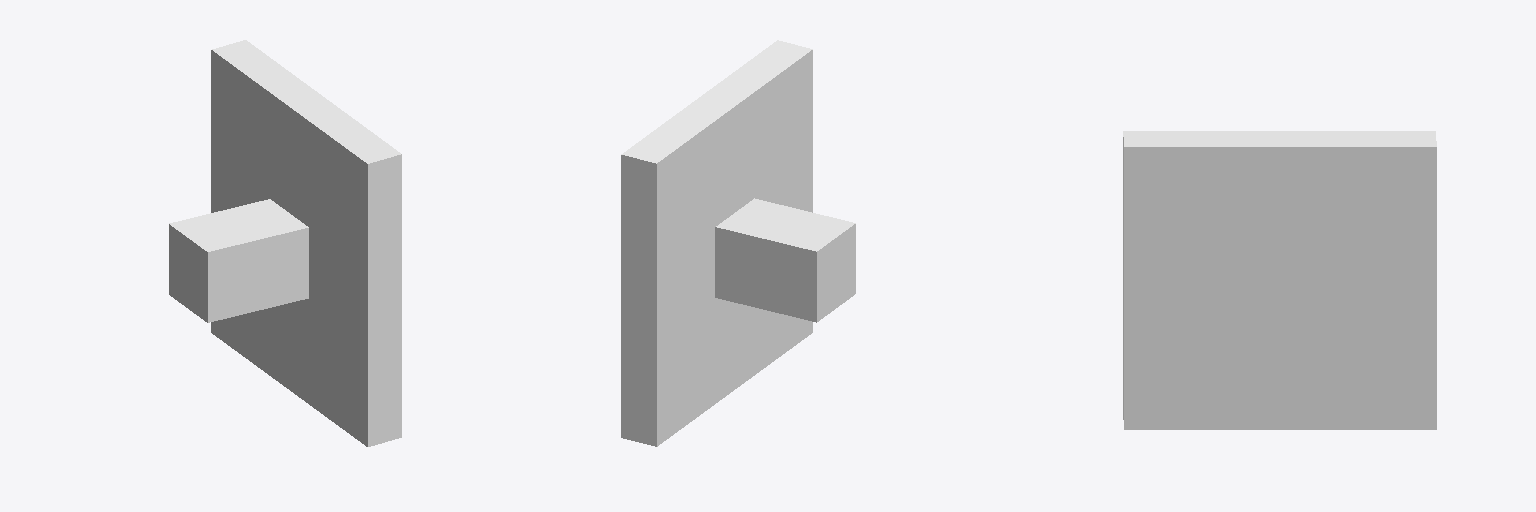
The model's file is robot_station_base.obj.
The picture shows the model from 3 angles: view 1: azimuth 30°, elevation 25°; view 2: azimuth 150°, elevation 25°; view 3: azimuth 270°, elevation 25°; orthographic projection.
Parts seen in each view (by area): view 1: Cube_Cube.001; view 2: Cube_Cube.001; view 3: Cube_Cube.001.
Part boxes in pixels (bbox=[...]): Cube_Cube.001: bbox=[169, 40, 401, 446]; Cube_Cube.001: bbox=[621, 40, 855, 446]; Cube_Cube.001: bbox=[1123, 131, 1436, 429].
Size of the model in its own units: 0.252 by 0.5019 by 0.5021.